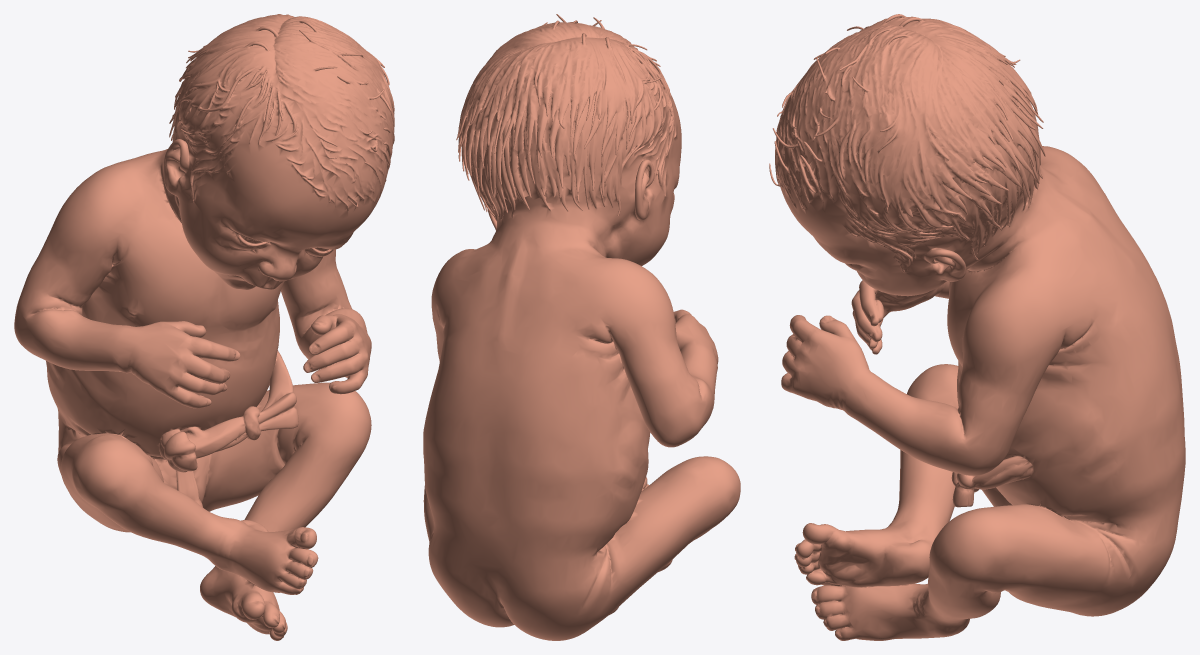
The model's file is semaine-22.glb.
3 renders of one model, left to right at view 1: azimuth 30°, elevation 25°; view 2: azimuth 150°, elevation 25°; view 3: azimuth 270°, elevation 25°, orthographic. The views are drawn at different scales.
Bounding box in the file's own units: 1.07 × 1.9 × 1.13.
